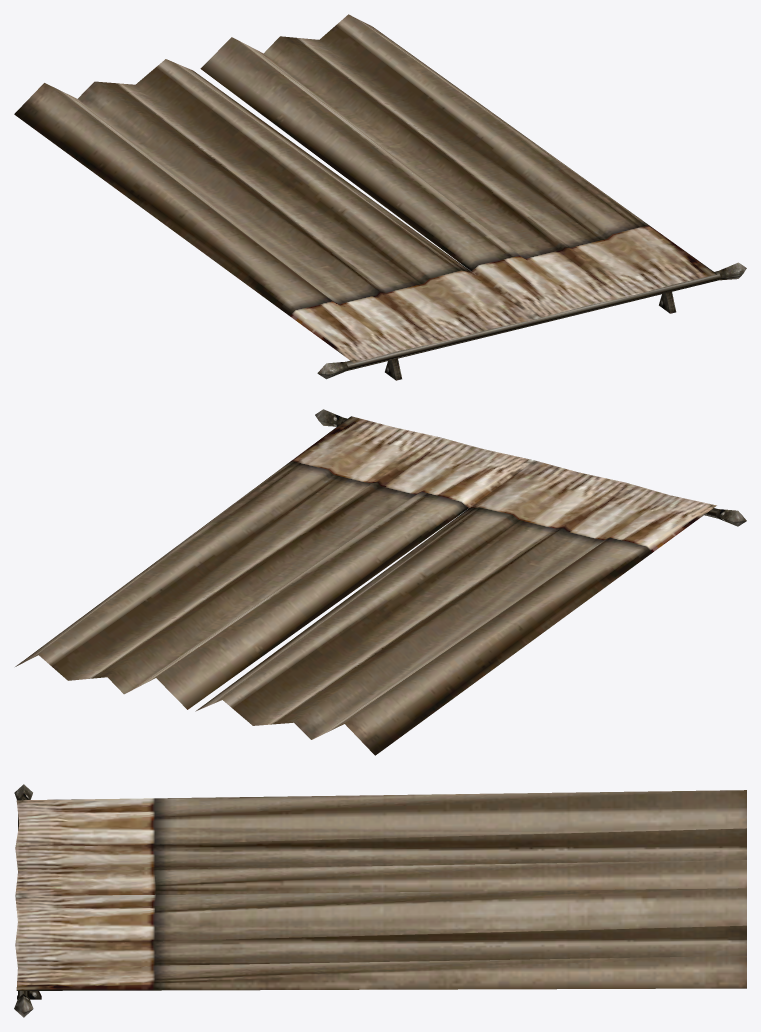
Rendered from default_curtain_closed.fbx.
3 views of the same model, one above another, from view 1: azimuth 30°, elevation 25°; view 2: azimuth 150°, elevation 25°; view 3: azimuth 270°, elevation 25° (orthographic). The views are drawn at different scales.
Parts seen in each view (by area): view 1: mesh_0; view 2: mesh_0; view 3: mesh_0.
Part boxes in pixels (<box>): mesh_0: <box>14,14,746,380</box>; mesh_0: <box>15,409,746,755</box>; mesh_0: <box>14,784,746,1017</box>.
Bounding box in the file's own units: 188 × 21.84 × 258.
Materials: 1 (1 with a texture image).
